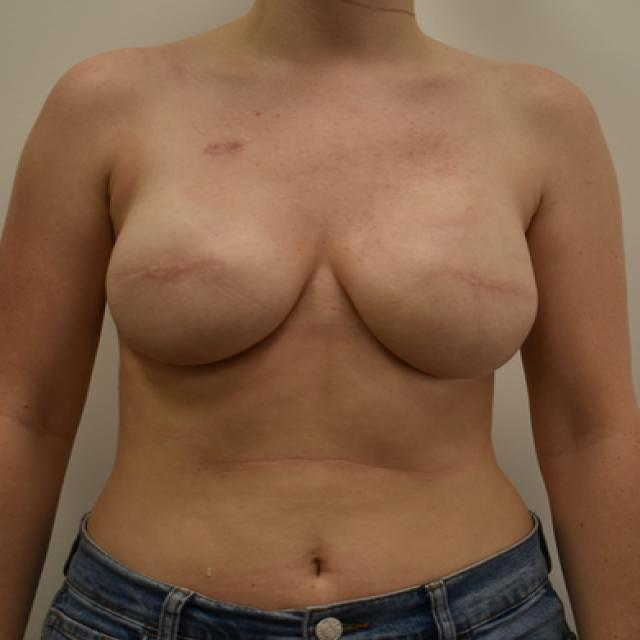Seno herido: (324, 132, 548, 401), (97, 132, 320, 401)
